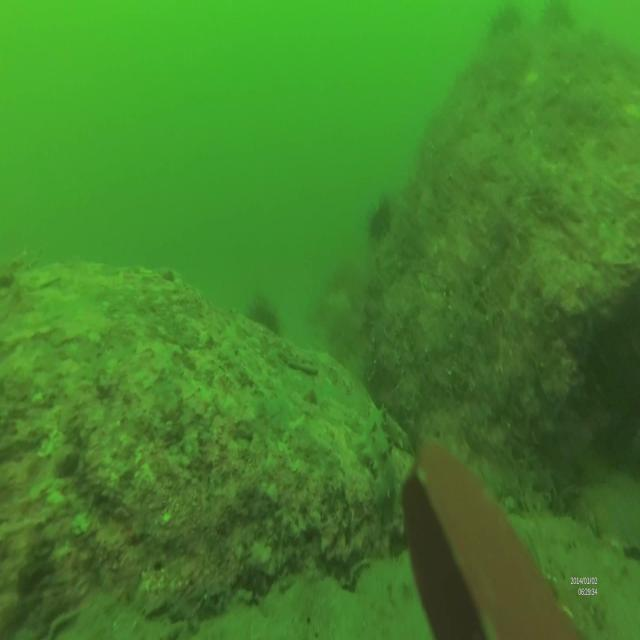echinus: (245, 292, 286, 345), (367, 187, 393, 244)
holothurian: (362, 396, 400, 528)
starfish: (579, 471, 640, 574)
